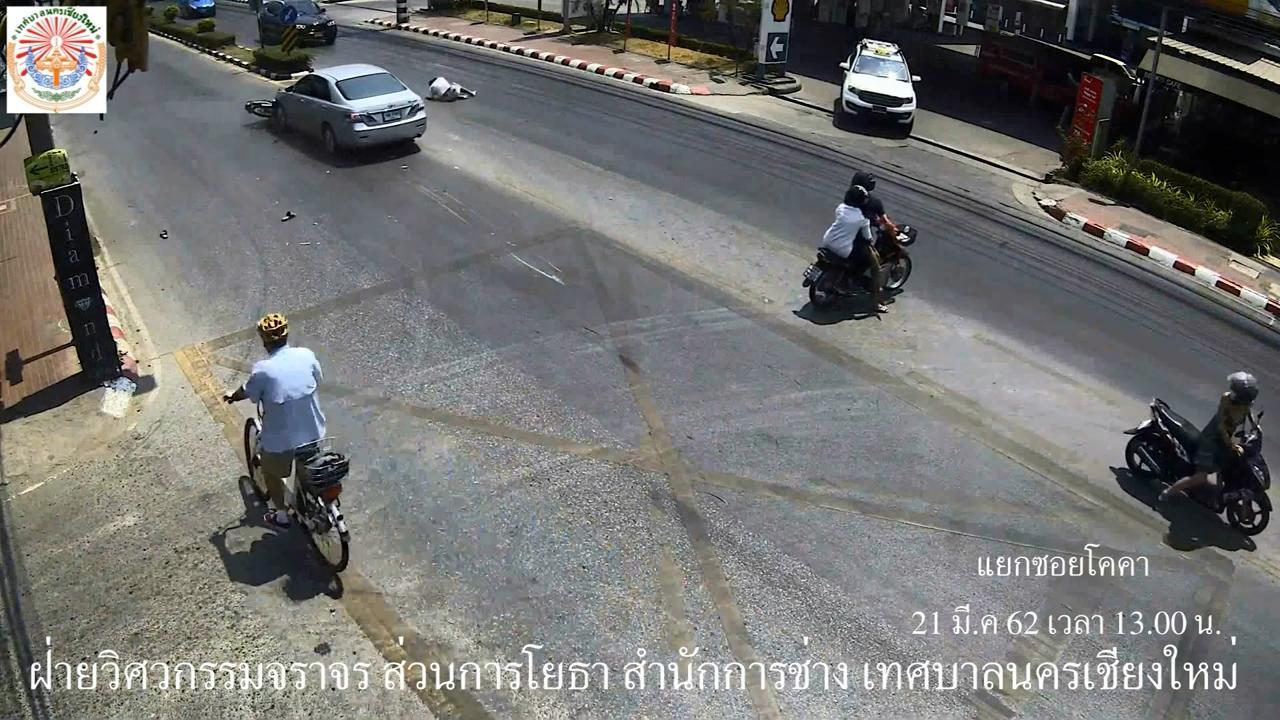accident: (424, 72, 482, 105)
